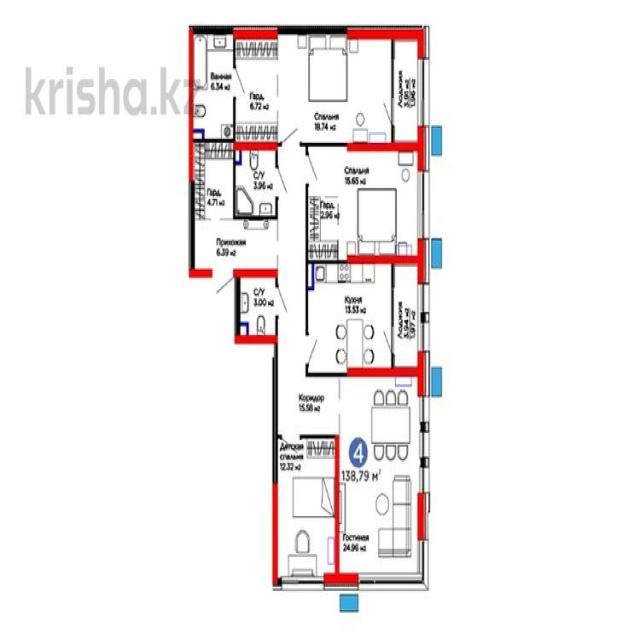balcony: (392, 258, 424, 374), (393, 29, 423, 149)
bathroom: (190, 28, 236, 142), (235, 144, 277, 218), (236, 270, 277, 343)
hallway: (190, 147, 339, 438)
kitchen: (307, 260, 394, 374)
living_room: (339, 368, 424, 583), (277, 29, 393, 150), (308, 148, 425, 254), (274, 434, 341, 588)
other: (234, 30, 278, 146), (190, 141, 234, 222)
